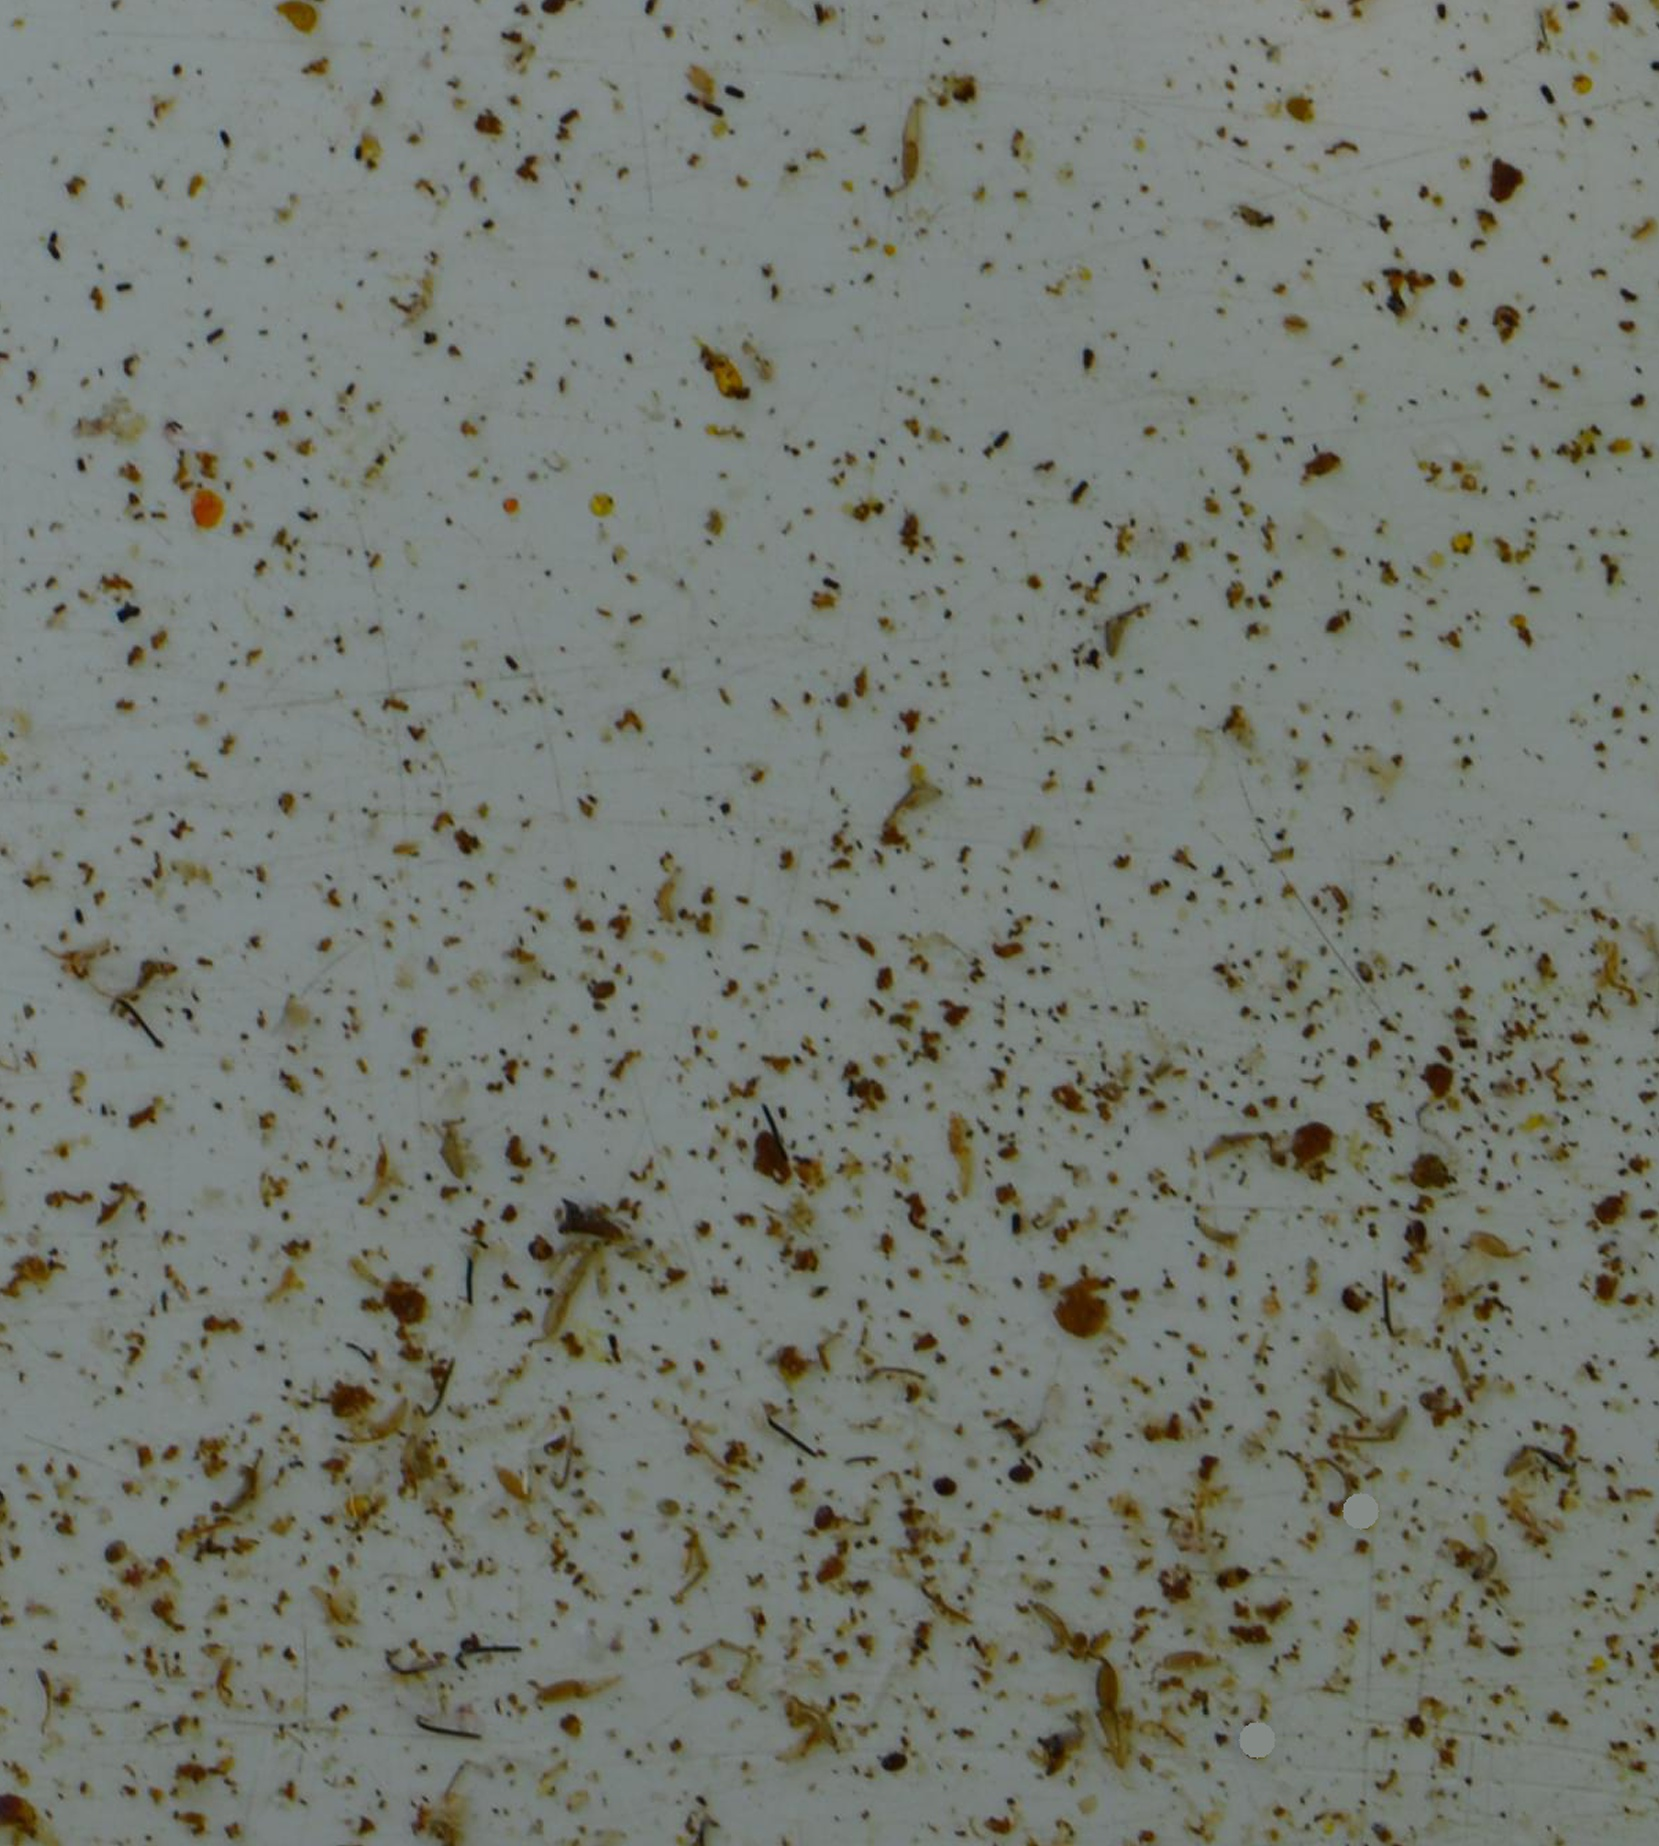Varroa: (1396, 1210, 1440, 1254), (878, 1747, 908, 1779), (99, 1542, 128, 1571), (1010, 1452, 1038, 1479), (813, 1500, 841, 1527), (584, 973, 612, 1001), (530, 1234, 557, 1262), (935, 1470, 961, 1495)
